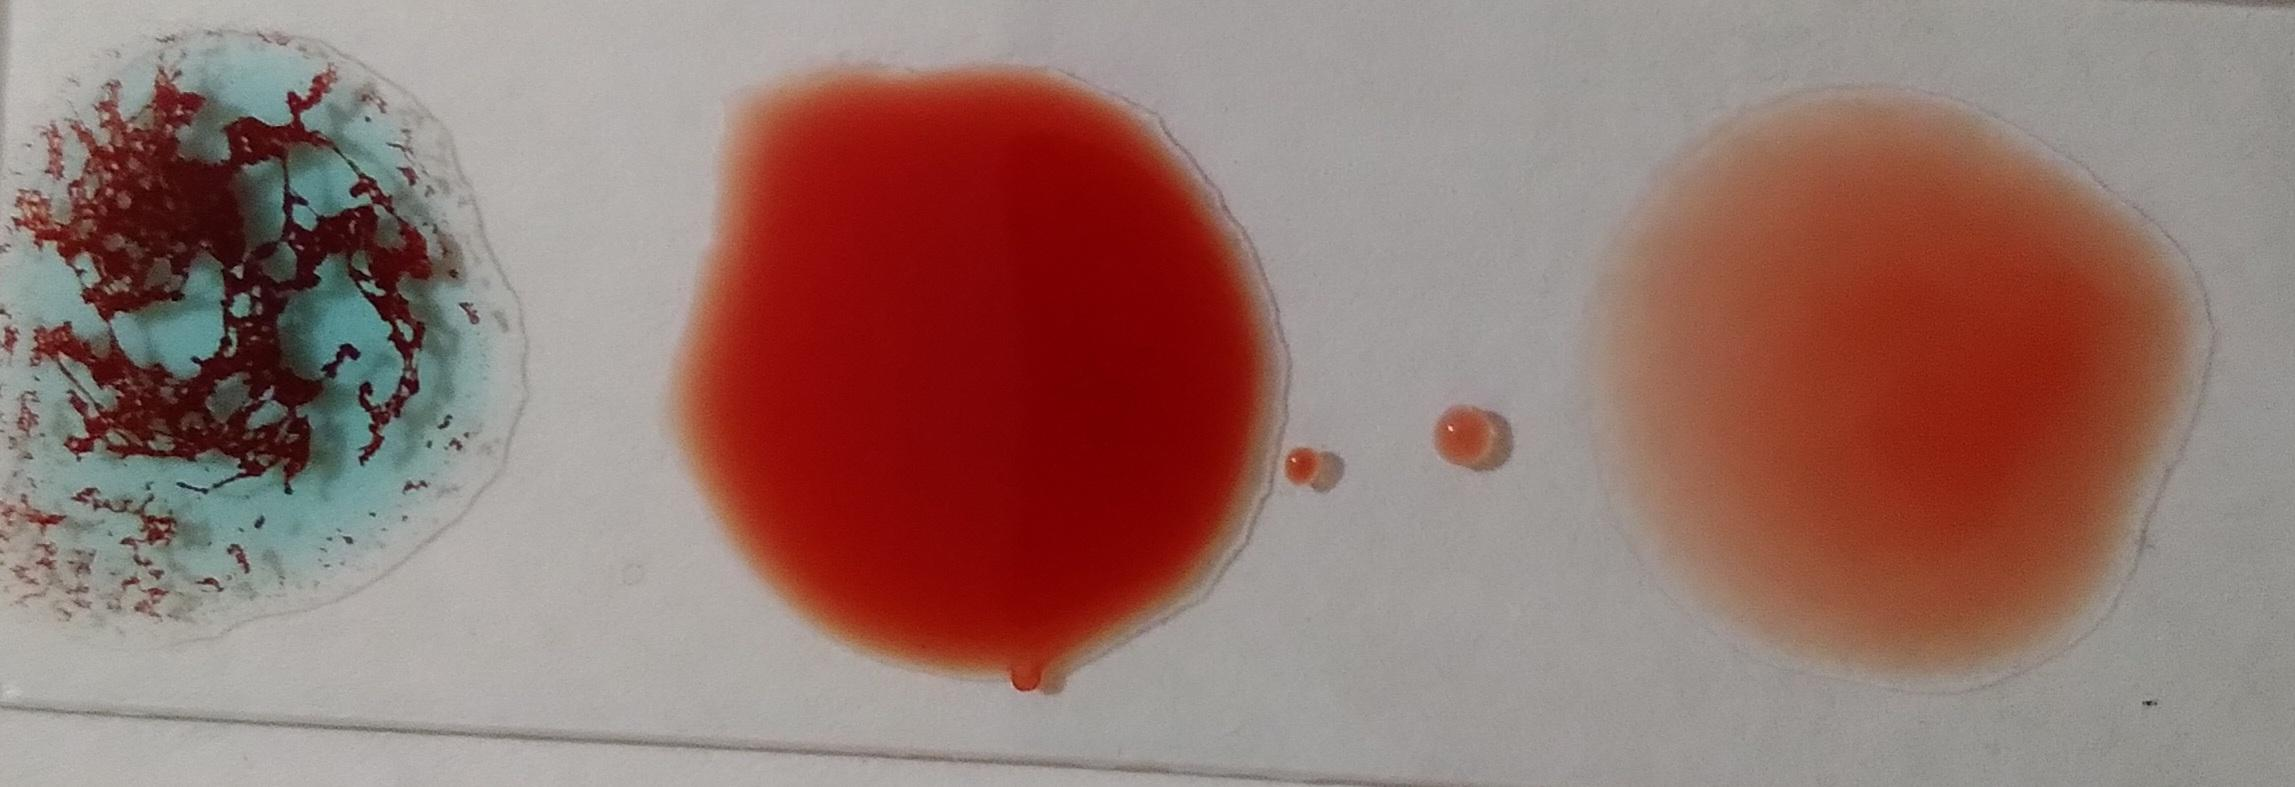A: (10, 16, 489, 642)
